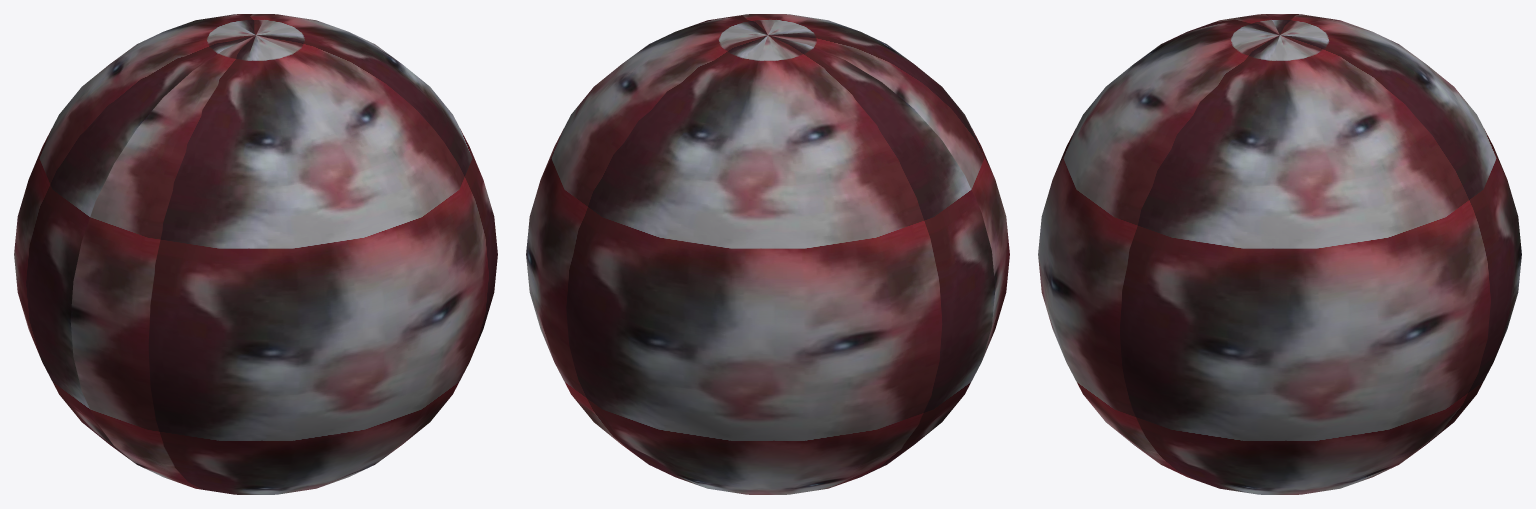
The model's file is cat orb.glb.
3 views of the same model, side by side, from view 1: azimuth 30°, elevation 25°; view 2: azimuth 150°, elevation 25°; view 3: azimuth 270°, elevation 25° (orthographic).
Visible parts, largest first — view 1: Sphere; view 2: Sphere; view 3: Sphere.
Part boxes in pixels (<box>): Sphere: <box>14,14,497,494</box>; Sphere: <box>526,14,1009,494</box>; Sphere: <box>1038,14,1521,494</box>.
Bounding box in the file's own units: 1.97 × 2 × 2.
Materials: 1 (1 with a texture image).
